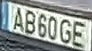0: (47, 14, 58, 40)
6: (36, 13, 47, 38)
A: (11, 6, 24, 33)
B: (24, 9, 36, 35)
E: (71, 18, 87, 48)
G: (58, 17, 72, 44)
